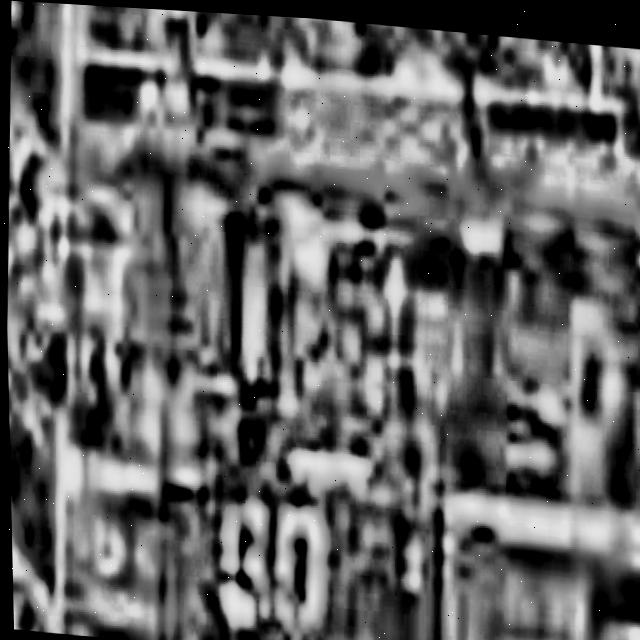dump_truck: (45, 12, 640, 640)
